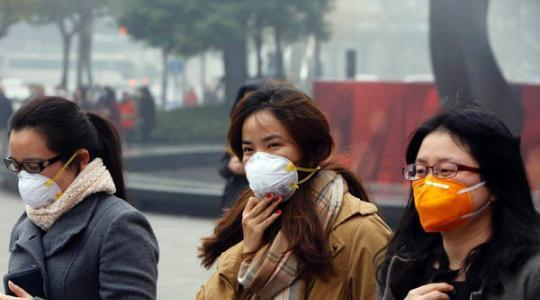OK: (410, 155, 481, 226), (236, 133, 299, 196), (8, 149, 68, 209)
